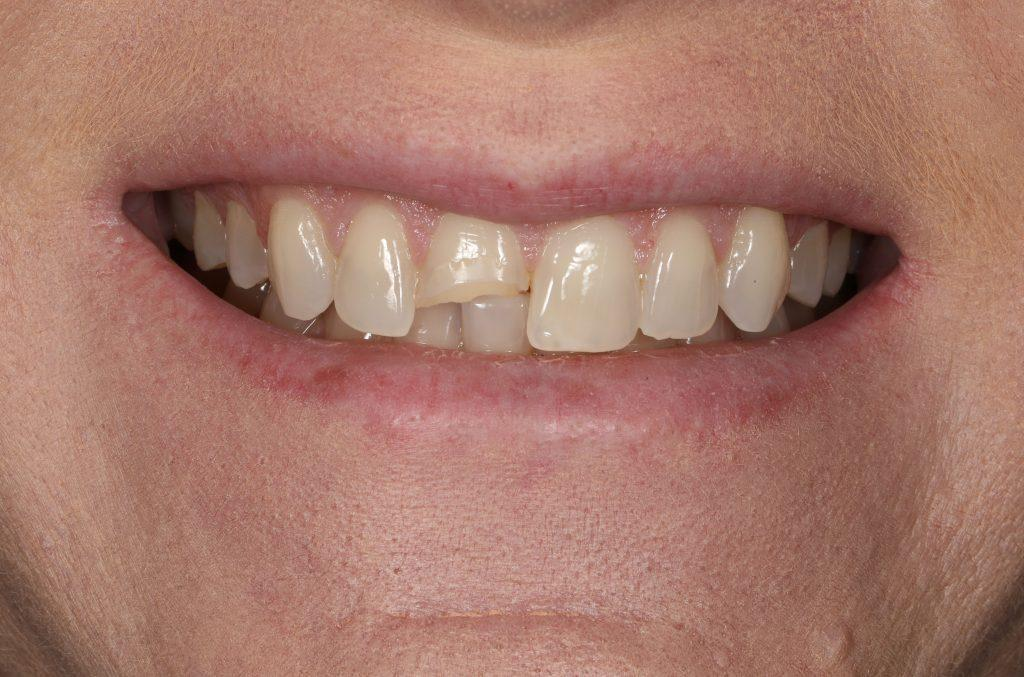Fractured Teeth: (417, 207, 528, 306)
